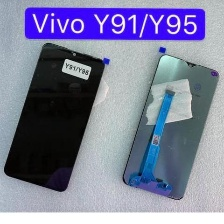phone: (0, 39, 109, 194), (117, 50, 221, 202)
